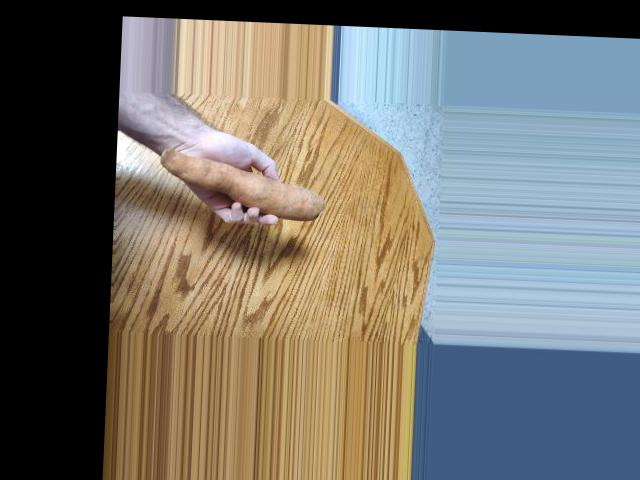sweet_potato: (167, 157, 318, 226)
